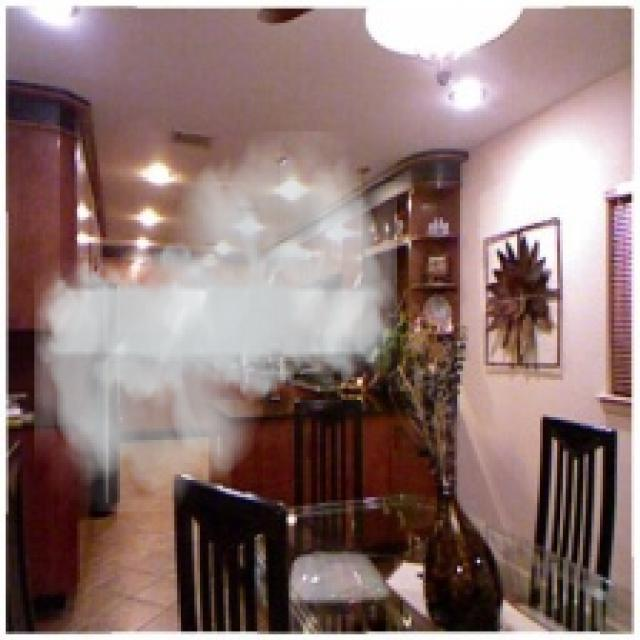Smoke: (34, 132, 397, 512)
